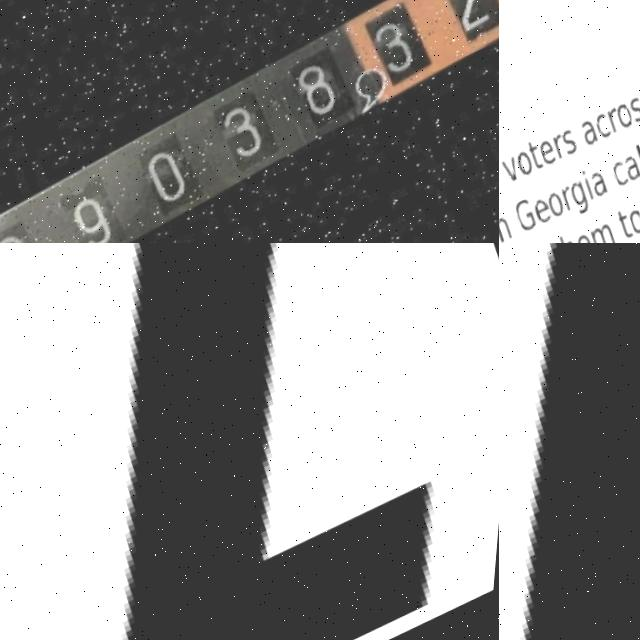0: (137, 140, 202, 215)
2: (438, 0, 498, 47), (0, 222, 51, 243)
3: (210, 97, 279, 176), (362, 13, 427, 90)
8: (283, 52, 354, 135)
9: (62, 184, 131, 243)
A: (499, 243, 640, 640)
L: (0, 243, 499, 640)
